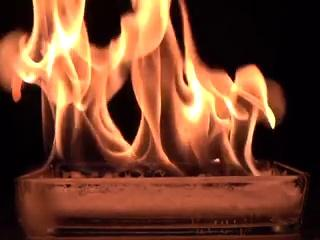Fire: (31, 1, 280, 181)
